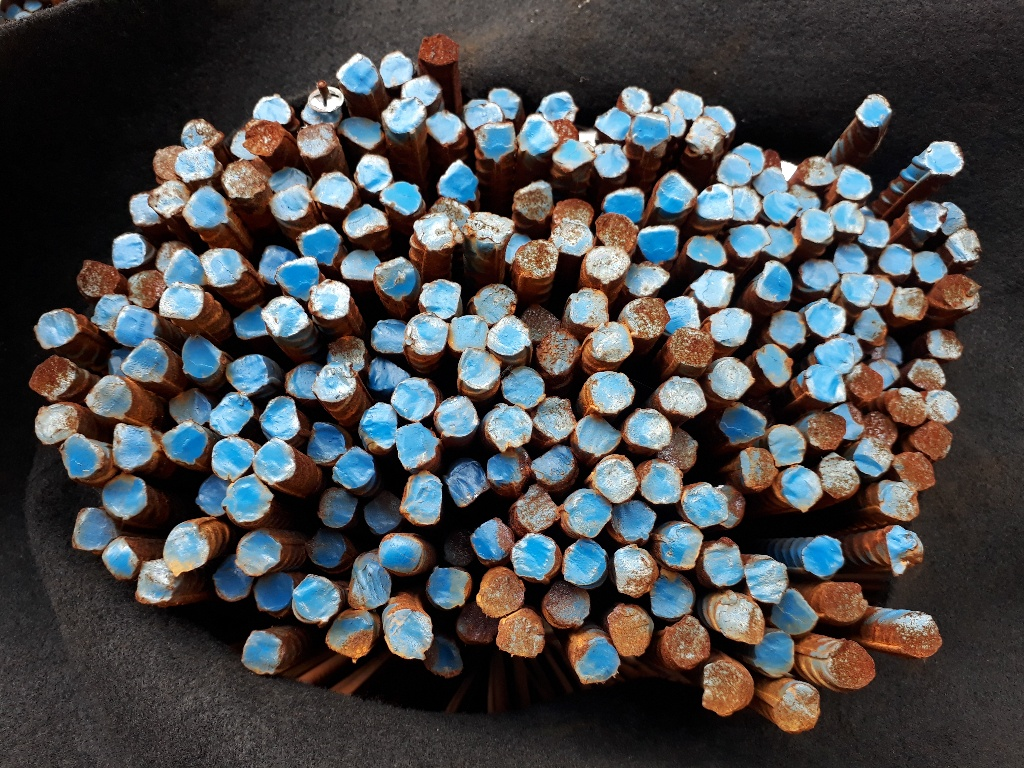dipstick: (702, 663, 750, 717), (665, 614, 711, 669), (291, 572, 340, 623), (614, 543, 659, 597), (717, 597, 766, 645), (223, 474, 272, 522), (385, 612, 433, 659), (563, 490, 612, 536), (325, 611, 373, 657), (818, 579, 869, 622), (607, 605, 650, 656), (743, 557, 789, 604), (510, 533, 557, 579), (542, 584, 590, 629), (515, 484, 559, 533), (402, 472, 442, 525), (162, 525, 208, 571), (831, 644, 878, 689), (770, 588, 818, 632), (573, 639, 621, 683), (252, 437, 296, 485), (261, 295, 310, 338), (240, 629, 285, 675), (209, 392, 255, 437), (30, 355, 76, 400), (680, 484, 728, 527), (719, 403, 768, 445), (562, 540, 606, 586), (532, 396, 576, 442), (487, 407, 533, 451), (347, 562, 391, 608), (111, 422, 153, 470), (120, 339, 168, 381), (620, 298, 669, 339), (360, 400, 397, 454), (395, 423, 438, 469), (234, 534, 280, 577), (86, 376, 132, 419), (659, 375, 706, 417), (181, 186, 228, 228), (705, 537, 745, 586), (276, 257, 320, 301), (818, 454, 860, 500), (781, 464, 823, 510), (638, 461, 684, 503), (390, 378, 436, 420), (537, 329, 578, 376), (496, 618, 545, 657), (435, 394, 479, 437), (296, 223, 340, 266), (102, 476, 146, 519), (591, 459, 636, 501), (426, 566, 468, 611), (377, 533, 423, 574), (755, 632, 795, 679), (661, 523, 701, 570), (332, 446, 375, 489), (901, 615, 943, 659), (374, 256, 416, 300), (211, 437, 253, 481), (72, 507, 114, 551), (778, 686, 819, 731), (649, 576, 694, 617), (60, 433, 101, 478), (447, 461, 487, 507), (75, 257, 121, 297), (336, 53, 379, 95), (114, 303, 157, 345), (502, 367, 546, 408), (35, 404, 79, 445), (576, 415, 621, 455), (181, 334, 221, 379), (668, 328, 714, 367), (477, 577, 523, 616), (886, 526, 922, 575), (421, 636, 463, 678), (379, 97, 428, 133), (628, 409, 671, 450), (531, 444, 574, 485), (473, 284, 516, 325), (406, 312, 447, 355), (653, 172, 697, 212), (473, 121, 517, 161), (437, 159, 477, 203), (514, 239, 560, 277), (158, 282, 204, 320), (458, 347, 499, 389), (304, 527, 346, 568), (226, 354, 268, 395), (894, 452, 937, 492), (591, 372, 634, 412), (260, 396, 300, 439), (255, 244, 298, 284), (199, 247, 243, 286), (584, 246, 630, 283), (803, 534, 844, 575), (456, 601, 497, 642), (637, 225, 679, 265), (306, 420, 346, 462), (710, 360, 753, 399), (658, 426, 697, 469), (612, 501, 655, 540), (419, 279, 462, 318), (34, 310, 77, 349), (550, 220, 594, 258), (313, 363, 357, 401), (342, 203, 388, 239), (596, 213, 636, 254), (472, 518, 512, 559), (364, 493, 404, 534), (310, 280, 351, 320), (710, 307, 752, 346), (519, 115, 558, 157), (487, 448, 529, 487), (252, 574, 295, 612), (928, 274, 976, 308), (691, 269, 735, 306), (101, 536, 138, 580), (741, 446, 777, 491), (756, 343, 792, 388), (465, 212, 514, 245), (489, 315, 529, 355), (591, 322, 632, 361), (662, 295, 700, 337), (755, 260, 793, 301), (269, 184, 311, 221), (311, 171, 353, 208), (624, 262, 669, 296), (338, 116, 383, 150), (880, 483, 919, 522), (212, 561, 251, 600), (513, 180, 551, 220), (447, 315, 487, 353), (352, 154, 392, 192), (165, 248, 206, 285), (888, 388, 927, 426), (807, 412, 846, 450), (570, 288, 609, 326), (319, 489, 358, 527), (126, 269, 163, 309), (911, 422, 952, 458), (221, 162, 262, 198), (136, 563, 172, 604), (149, 180, 190, 216), (413, 214, 455, 249), (379, 181, 421, 216), (242, 120, 284, 155), (854, 439, 892, 477), (806, 365, 844, 403), (841, 268, 878, 307), (806, 301, 846, 337), (176, 147, 216, 183), (768, 426, 804, 465), (769, 309, 805, 348), (591, 143, 630, 179), (521, 306, 560, 342), (800, 257, 840, 292), (603, 188, 643, 223), (170, 391, 211, 425), (687, 117, 724, 154), (285, 363, 321, 401), (631, 113, 670, 148), (340, 249, 381, 282), (716, 483, 745, 529), (328, 335, 364, 372), (92, 291, 128, 328), (845, 367, 884, 401), (814, 339, 853, 373), (729, 225, 770, 257), (368, 359, 409, 391), (300, 95, 345, 124), (370, 317, 406, 353), (153, 146, 189, 182), (696, 184, 733, 219), (426, 110, 463, 145), (853, 308, 887, 346), (551, 140, 594, 170), (401, 74, 440, 107), (298, 125, 337, 158), (419, 34, 460, 65), (760, 225, 797, 259), (464, 98, 502, 131), (197, 478, 230, 516), (251, 95, 291, 126), (553, 198, 594, 228), (945, 226, 979, 262), (912, 248, 946, 284), (182, 118, 220, 150), (687, 236, 726, 267), (787, 184, 821, 219), (862, 412, 898, 445), (595, 108, 631, 141), (715, 154, 752, 186), (830, 404, 863, 439), (910, 201, 946, 233), (380, 51, 412, 87), (234, 303, 266, 339), (925, 143, 962, 174), (908, 359, 946, 389), (926, 329, 965, 358), (879, 245, 913, 278), (829, 200, 863, 233), (800, 207, 833, 241), (795, 157, 835, 185), (113, 234, 145, 269), (540, 90, 576, 121), (755, 165, 789, 197), (668, 90, 703, 121), (430, 198, 470, 225), (859, 94, 892, 126), (732, 142, 763, 176), (129, 193, 163, 224), (859, 215, 890, 248), (926, 389, 959, 420), (837, 167, 871, 197), (231, 129, 263, 160), (730, 187, 760, 220), (867, 358, 899, 388), (489, 87, 519, 119), (938, 200, 966, 234), (833, 244, 867, 272), (659, 102, 685, 137), (157, 242, 187, 272), (705, 104, 735, 133), (872, 339, 903, 366), (835, 332, 862, 363), (269, 167, 308, 188), (622, 86, 651, 113), (110, 350, 136, 379), (549, 120, 579, 142), (873, 276, 892, 304), (762, 146, 783, 170)
